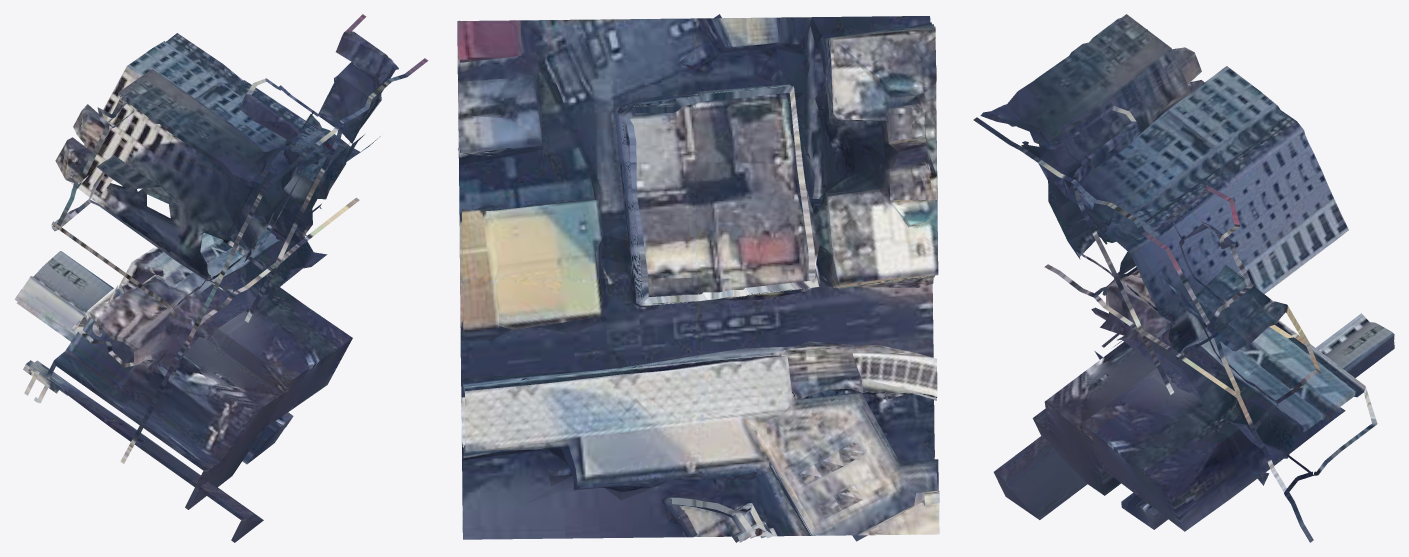
3 renders of one model, left to right at view 1: azimuth 30°, elevation 25°; view 2: azimuth 150°, elevation 25°; view 3: azimuth 270°, elevation 25°, orthographic. The views are drawn at different scales.
Size of the model in its own units: 88.22 by 94.47 by 79.95.
3 materials, 3 textured.
